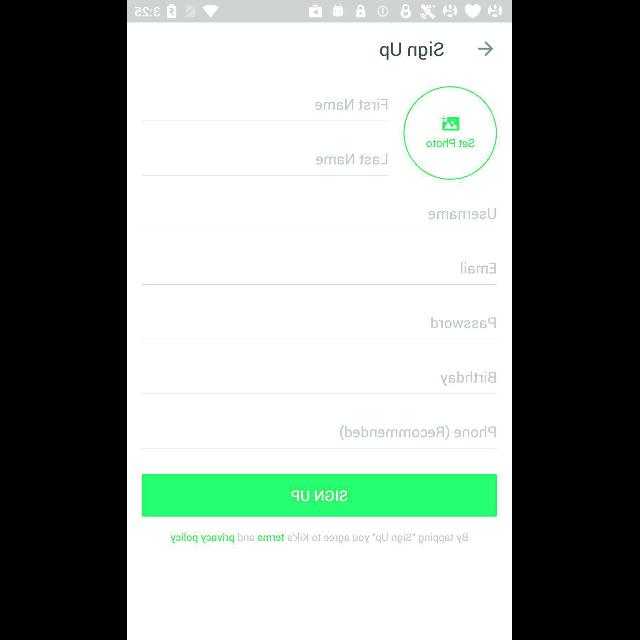icon: (478, 42, 494, 56)
image: (404, 86, 498, 180)
input: (142, 425, 498, 449), (142, 316, 498, 339), (142, 262, 498, 284), (142, 208, 498, 230), (143, 372, 497, 394), (143, 98, 389, 122), (143, 154, 390, 176)
text: (172, 532, 468, 544), (341, 426, 497, 440), (382, 42, 444, 60), (316, 99, 388, 111), (429, 208, 497, 220), (432, 317, 496, 329), (442, 372, 496, 386), (316, 154, 388, 164), (461, 262, 497, 274)
textbutton: (143, 474, 497, 516)
uppertaskbar: (128, 1, 512, 23)
